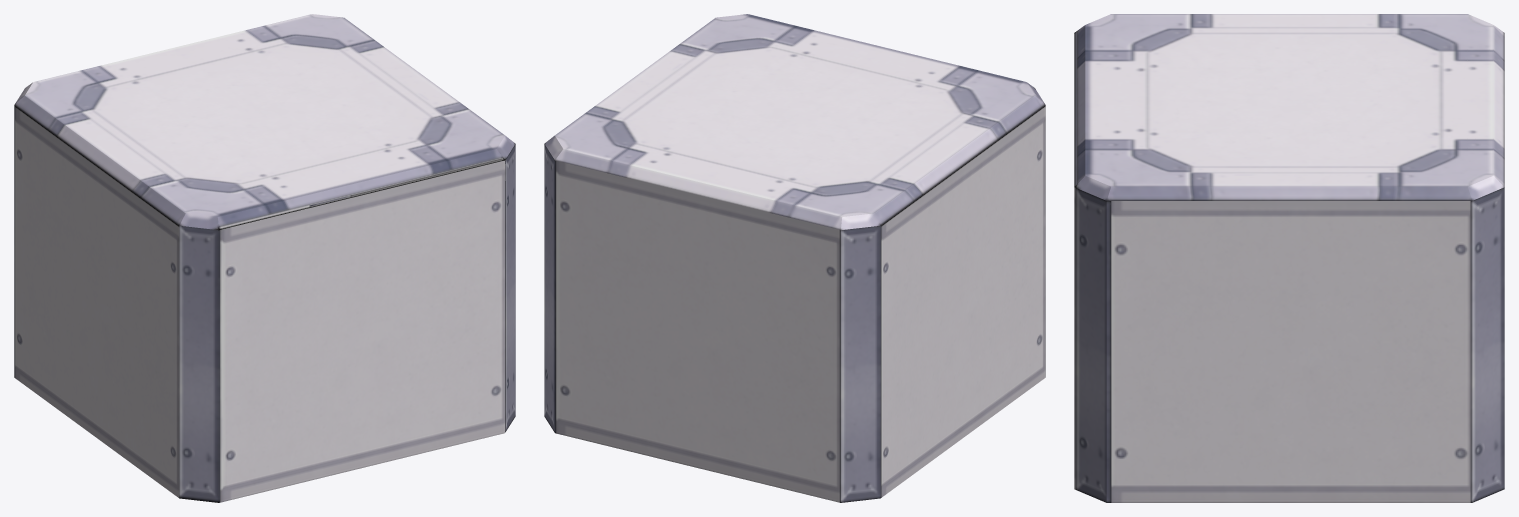
The model's file is bloc.fbx.
3 renders of one model, left to right at view 1: azimuth 30°, elevation 25°; view 2: azimuth 150°, elevation 25°; view 3: azimuth 270°, elevation 25°, orthographic. The views are drawn at different scales.
Visible parts, largest first — view 1: Cube; view 2: Cube; view 3: Cube.
Boxes of the visible parts, box(x1,y1,x2,y2) form: Cube: box(14, 14, 515, 502); Cube: box(544, 14, 1045, 502); Cube: box(1074, 14, 1504, 502).
Size of the model in its own units: 100 by 80 by 100.
Materials: 1 (1 with a texture image).
